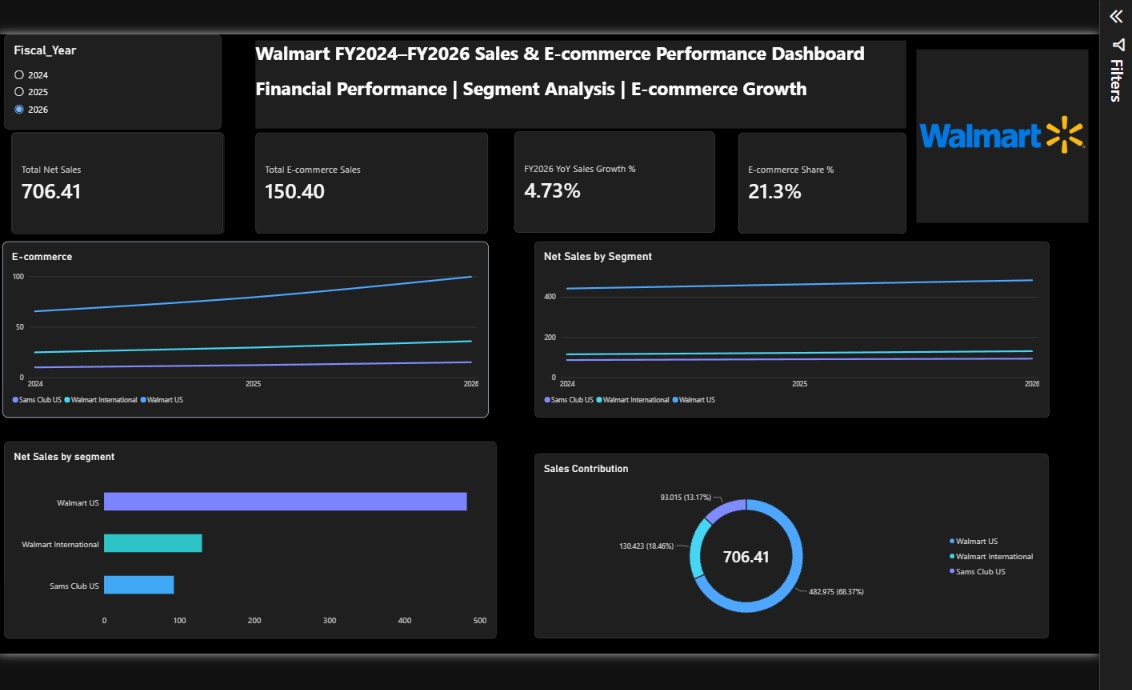

Layout of this report page (visuals, bound fields, positions):
{"tool":"powerbi","page":{"name":"Page 1","canvas":[1920,1080],"ordinal":0},"visuals":[{"type":"listSlicer","fields":{"Values":["WalmartSales.Fiscal_Year"]},"box":[10.5,0,378.5,165.7],"z":0},{"type":"cardVisual","fields":{"Data":["WalmartSales.Total Net Sales"]},"box":[22.7,170.9,371.5,177.9],"z":1000},{"type":"cardVisual","fields":{"Data":["WalmartSales.Total E-commerce Sales"]},"box":[448.3,170.9,406.4,177.9],"z":2000},{"type":"cardVisual","fields":{"Data":["WalmartSales.FY2026 YoY Sales Growth %"]},"box":[900,169.2,350.6,177.9],"z":3000},{"type":"cardVisual","fields":{"Data":["WalmartSales.E-commerce Share %"]},"box":[1290.7,170.9,293,177.9],"z":4000},{"type":"textbox","box":[10,715.5,321,239],"z":6000},{"type":"textbox","box":[388.3,880,293.3,75],"z":7000},{"type":"textbox","box":[448.3,10.5,1135.5,153.5],"z":8000},{"type":"lineChart","title":"E-commerce","fields":{"Category":["WalmartSales.Fiscal_Year"],"Series":["WalmartSales.Segment"],"Y":["Sum(WalmartSales.Ecommerce_Sales_Billions)"]},"box":[7,361,847.7,307],"z":9000},{"type":"clusteredBarChart","title":" Net Sales by segment","fields":{"Category":["WalmartSales.Segment"],"Y":["Sum(WalmartSales.Net_Sales_Billions)"]},"box":[10.5,709.9,858.1,343.6],"z":10000},{"type":"donutChart","title":"Sales Contribution","fields":{"Category":["WalmartSales.Segment"],"Y":["Sum(WalmartSales.Net_Sales_Billions)"]},"box":[934.9,730.8,896.5,322.7],"z":11000},{"type":"lineChart","title":"Net Sales by Segment","fields":{"Category":["WalmartSales.Fiscal_Year"],"Series":["WalmartSales.Segment"],"Y":["Sum(WalmartSales.Net_Sales_Billions)"]},"box":[934.9,361,898.3,307],"z":12000},{"type":"image","box":[1602,26,300,302],"z":12001}]}

Visuals, with their boxes on the page's 1920x1080 design canvas (x1, y1, x2, y2). These are canvas units, not pixel positions in the 1132x690 screenshot, which may show the page scaled, cropped or inside an application window:
listSlicer - WalmartSales.Fiscal_Year: [x1=10, y1=0, x2=389, y2=166]
cardVisual - WalmartSales.Total Net Sales: [x1=23, y1=171, x2=394, y2=349]
cardVisual - WalmartSales.Total E-commerce Sales: [x1=448, y1=171, x2=855, y2=349]
cardVisual - WalmartSales.FY2026 YoY Sales Growth %: [x1=900, y1=169, x2=1251, y2=347]
cardVisual - WalmartSales.E-commerce Share %: [x1=1291, y1=171, x2=1584, y2=349]
textbox: [x1=10, y1=716, x2=331, y2=954]
textbox: [x1=388, y1=880, x2=682, y2=955]
textbox: [x1=448, y1=10, x2=1584, y2=164]
"E-commerce" lineChart: [x1=7, y1=361, x2=855, y2=668]
" Net Sales by segment" clusteredBarChart: [x1=10, y1=710, x2=869, y2=1054]
"Sales Contribution" donutChart: [x1=935, y1=731, x2=1831, y2=1054]
"Net Sales by Segment" lineChart: [x1=935, y1=361, x2=1833, y2=668]
image: [x1=1602, y1=26, x2=1902, y2=328]
